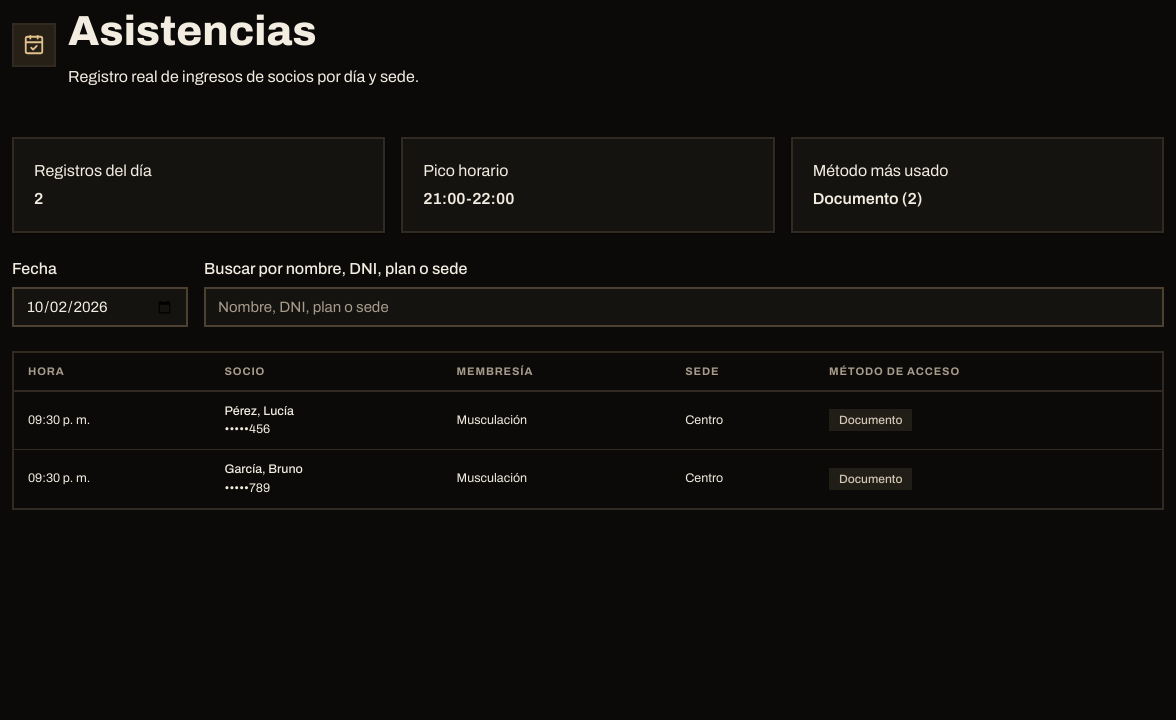
Test case: AttendancePage › la búsqueda filtra por nombre o DNI en la página actual
Expected: the link "Pérez, Lucía" is shown, x1=224 y1=404 x2=294 y2=418
Type "789" into the field labelled "Buscar por nombre, DNI, plan o sede".
click(684, 307); type("789")  # box x1=204 y1=287 x2=1164 y2=327
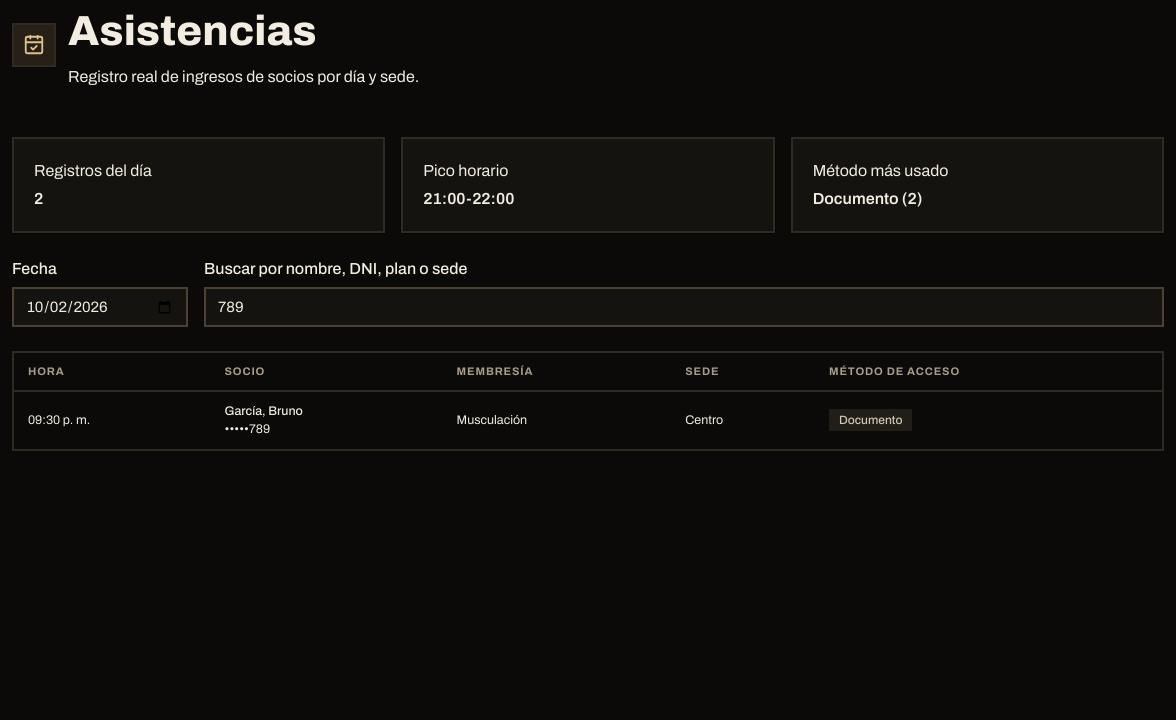
Expected: the link "García, Bruno" is shown, x1=224 y1=404 x2=303 y2=418
Expected: the link "Pérez, Lucía" is gone
